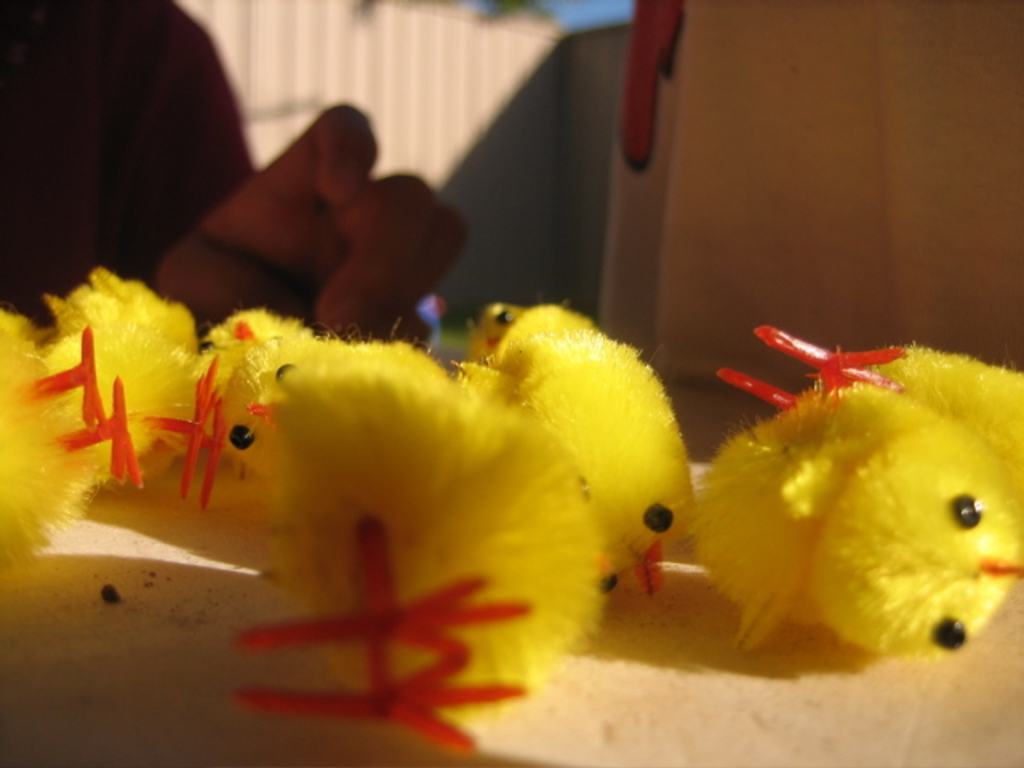person: (0, 0, 469, 398)
